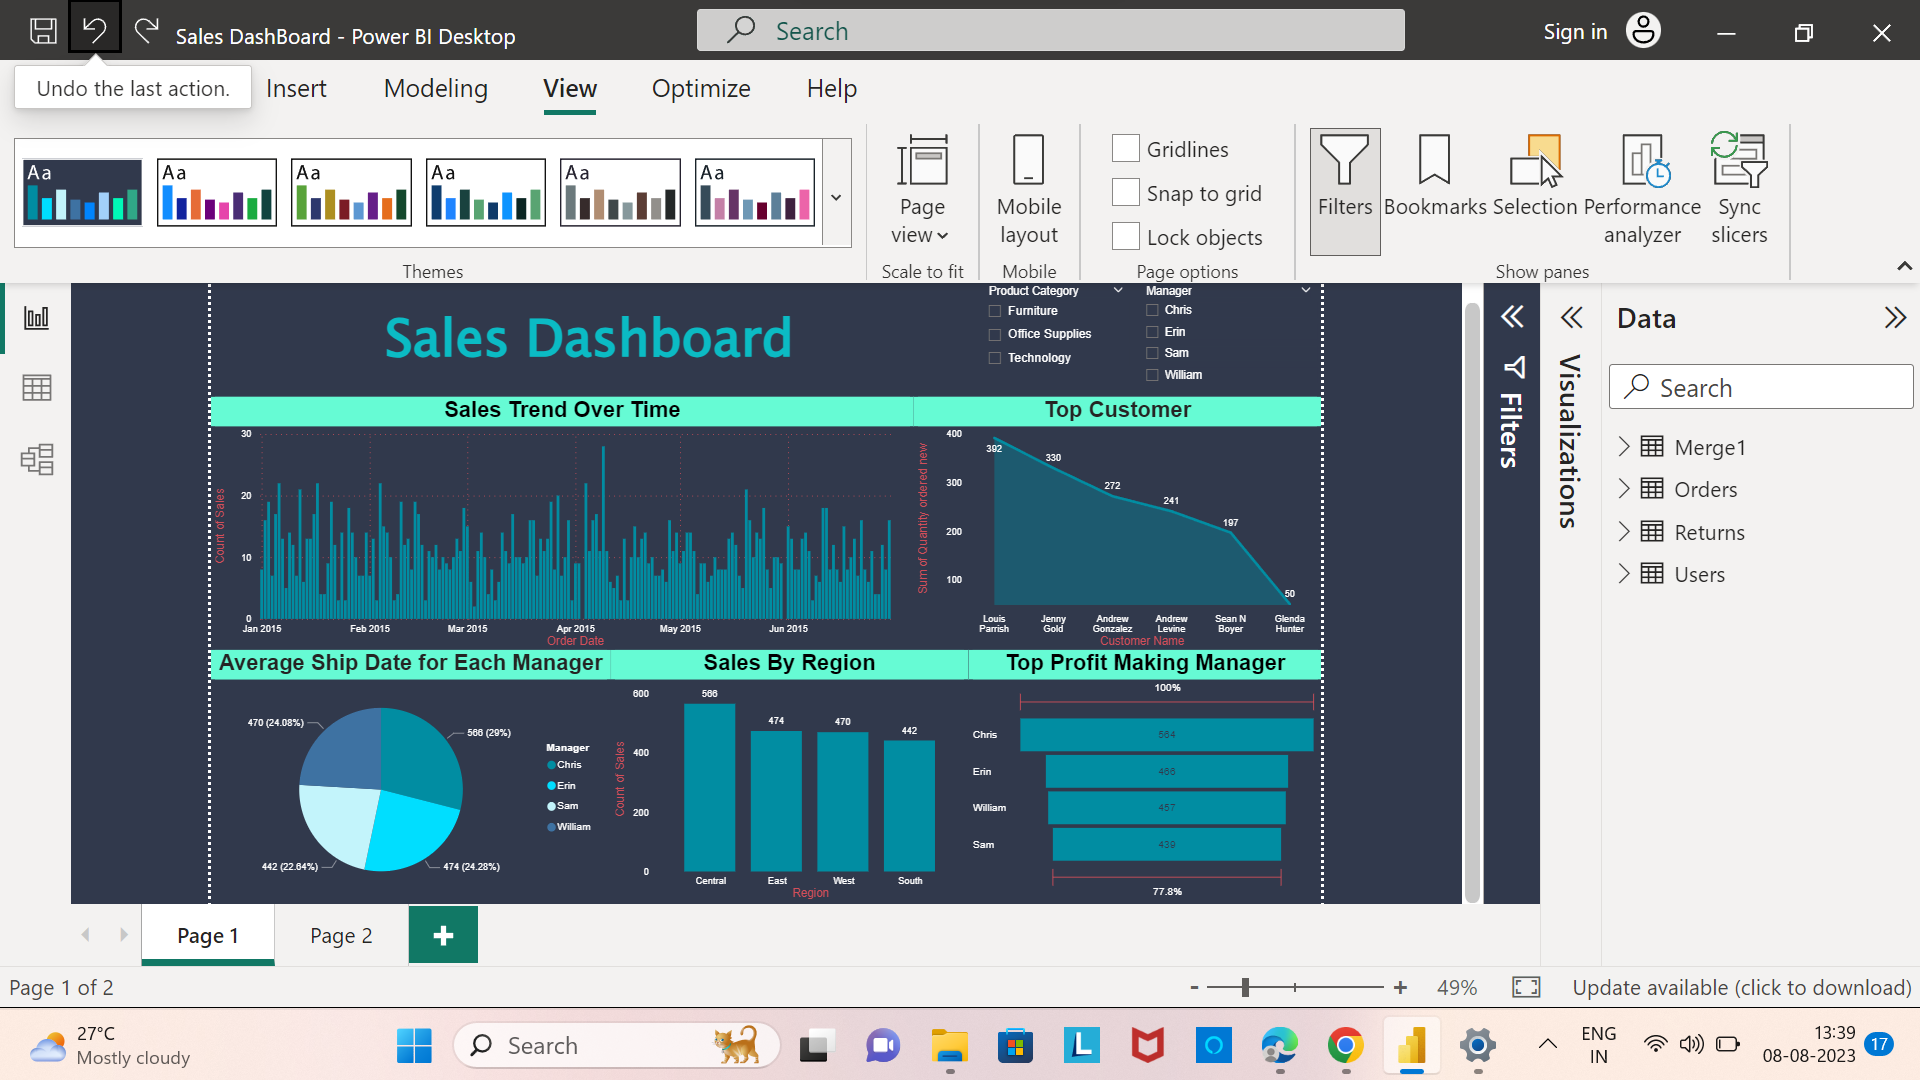

The page's visual inventory and layout, read from the dashboard file:
{"tool":"powerbi","page":{"name":"Page 1","canvas":[1280,720],"ordinal":0},"visuals":[{"type":"clusteredColumnChart","title":"Sales By Region ","fields":{"Y":["CountNonNull(Orders.Sales)"],"Category":["Orders.Region"]},"box":[460.7,427.2,411.9,293.2],"z":1000},{"type":"pieChart","title":"Average Ship Date for Each Manager","fields":{"Category":["Merge1.Manager","Merge1.Ship Date"],"Y":["Merge1.Count of Ship Date average per Manager"]},"box":[0,427.2,460.7,293.2],"z":2000},{"type":"areaChart","title":"Top Customer  ","fields":{"Category":["Merge1.Customer Name"],"Y":["Sum(Merge1.Quantity ordered new)"]},"box":[810.4,134,470.1,293.5],"z":3000},{"type":"funnel","title":"Top Profit Making Manager","fields":{"Category":["Merge1.Manager"],"Y":["Count(Merge1.Profit)"]},"box":[872.6,427.2,407.7,293.2],"z":4000},{"type":"slicer","fields":{"Values":["Merge1.Manager"]},"box":[1065.4,0,215.1,133.2],"z":5000},{"type":"slicer","fields":{"Values":["Merge1.Product Category"]},"box":[883,0,180.3,133.2],"z":6000},{"type":"textbox","box":[0,18.4,872.8,114.7],"z":7000},{"type":"clusteredColumnChart","title":"Sales Trend Over Time","fields":{"Y":["CountNonNull(Merge1.Sales)"],"Category":["Merge1.Order Date"]},"box":[0,134,810.4,293.5],"z":7001}]}

Visuals, with their boxes on the page's 1280x720 design canvas (x1, y1, x2, y2). These are canvas units, not pixel positions in the 1920x1080 screenshot, which may show the page scaled, cropped or inside an application window:
"Sales By Region " clusteredColumnChart: [461, 427, 873, 720]
"Average Ship Date for Each Manager" pieChart: [0, 427, 461, 720]
"Top Customer  " areaChart: [810, 134, 1280, 428]
"Top Profit Making Manager" funnel: [873, 427, 1280, 720]
slicer - Merge1.Manager: [1065, 0, 1280, 133]
slicer - Merge1.Product Category: [883, 0, 1063, 133]
textbox: [0, 18, 873, 133]
"Sales Trend Over Time" clusteredColumnChart: [0, 134, 810, 428]
